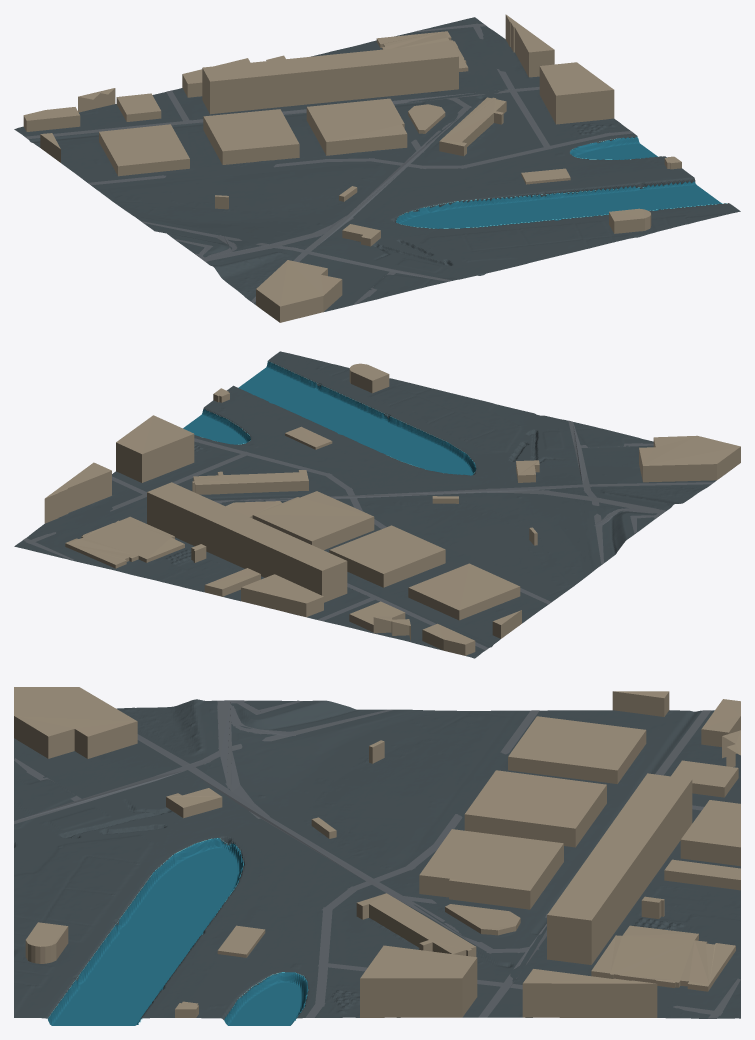
The model's file is epsg26910-1448-10874.lod0.glb.
The picture shows the model from 3 angles, top to bottom: view 1: azimuth 30°, elevation 25°; view 2: azimuth 150°, elevation 25°; view 3: azimuth 270°, elevation 25°; orthographic projection. The views are drawn at different scales.
Parts seen in each view (by area): view 1: epsg26910-1448-10874-lod0; view 2: epsg26910-1448-10874-lod0; view 3: epsg26910-1448-10874-lod0.
Boxes of the visible parts, box(x1,y1,x2,y2) form: epsg26910-1448-10874-lod0: box(14, 14, 740, 322); epsg26910-1448-10874-lod0: box(14, 351, 740, 658); epsg26910-1448-10874-lod0: box(14, 687, 740, 1025).
Bounding box in the file's own units: 384 × 31.03 × 384.
